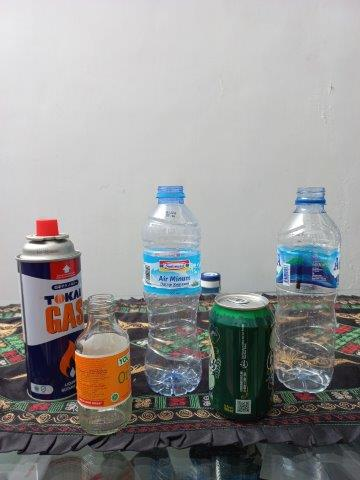botolkaca: (73, 296, 132, 436)
botolplastik: (276, 187, 338, 394), (142, 185, 201, 395)
kaleng: (16, 219, 84, 402), (209, 294, 277, 418)
